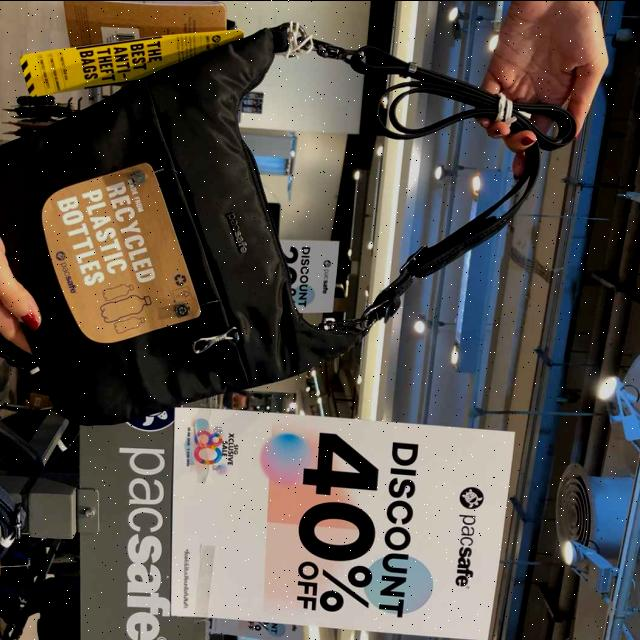handbag: (0, 19, 356, 427)
